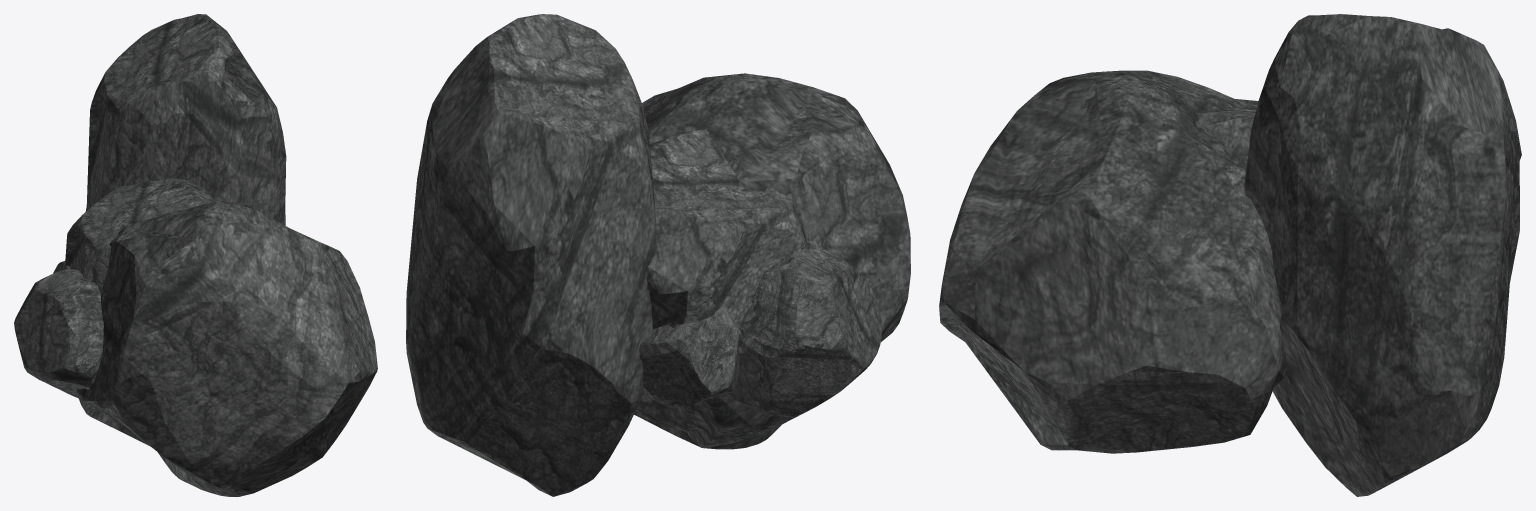
Rendered from Piedra.fbx.
3 renders of one model, left to right at view 1: azimuth 30°, elevation 25°; view 2: azimuth 150°, elevation 25°; view 3: azimuth 270°, elevation 25°, orthographic. The views are drawn at different scales.
Parts seen in each view (by area): view 1: Cube; view 2: Cube; view 3: Cube.
Boxes of the visible parts, x1=… form: Cube: x1=14, y1=14, x2=377, y2=496; Cube: x1=406, y1=14, x2=910, y2=496; Cube: x1=939, y1=14, x2=1521, y2=496.
Bounding box in the file's own units: 979 × 1140 × 1250.
